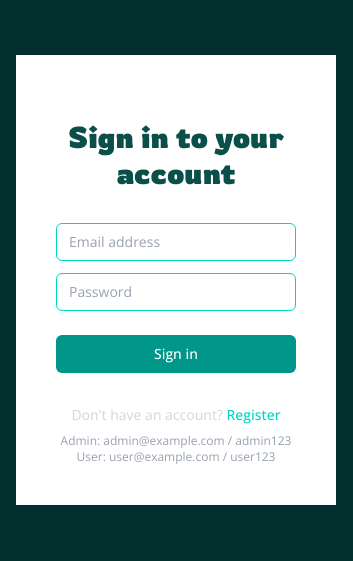
Test: LoginPage › displays error on failed login
Type "wrong@example.com" into the field with placeholder "Email address" at (176, 242), box [56,223,296,261]
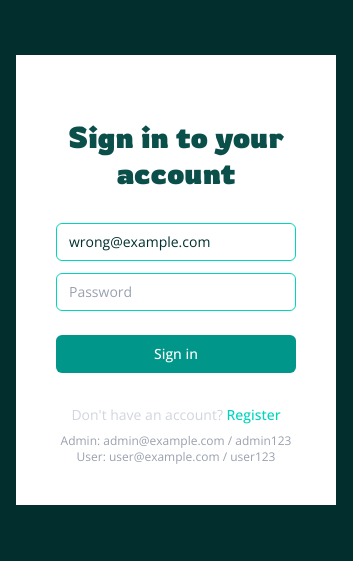
Type "wrongpass" into the password field with placeholder "Password" at (176, 292), box [56,273,296,311]
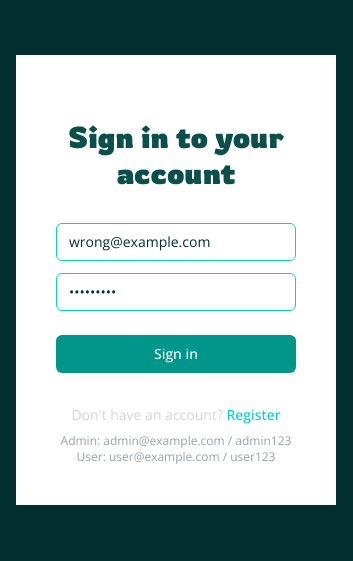
Click the button "Sign in" at (176, 354), box [56,335,296,373]
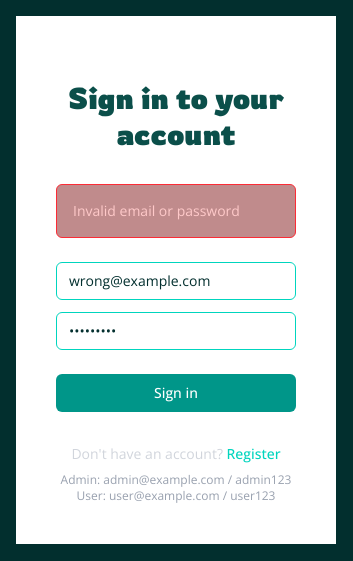
Expected: the text "Invalid email or password" is shown, [73,201,240,220]
